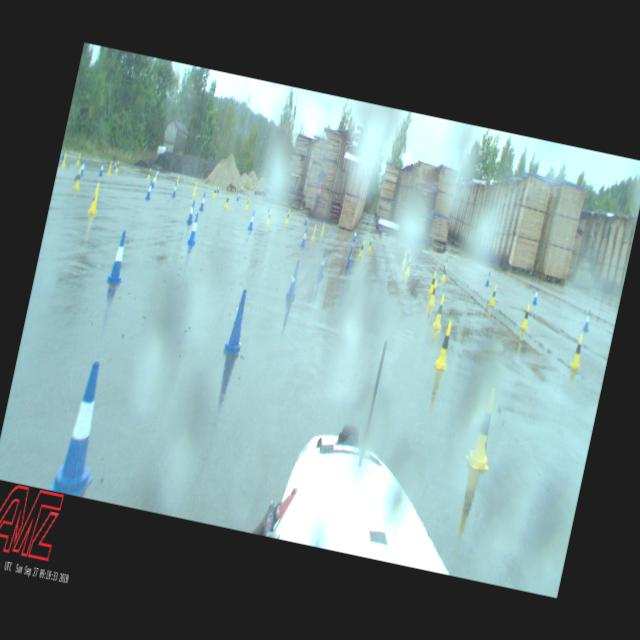blue_cone: (47, 358, 116, 497), (222, 288, 252, 354), (106, 230, 132, 284), (285, 259, 302, 301), (187, 213, 200, 244), (316, 248, 328, 279), (186, 200, 196, 224), (582, 309, 592, 332), (144, 179, 154, 200), (344, 246, 353, 268), (300, 226, 308, 248), (198, 192, 206, 212), (170, 180, 178, 198), (484, 270, 492, 286), (532, 286, 539, 304), (248, 210, 255, 228), (405, 243, 412, 261), (80, 159, 86, 178), (98, 160, 105, 176), (150, 171, 156, 187), (441, 258, 447, 272), (352, 227, 358, 240), (112, 158, 118, 169), (304, 212, 309, 225), (236, 188, 241, 201), (61, 147, 66, 160), (156, 166, 160, 177), (217, 182, 220, 192)
yellow_cone: (463, 386, 504, 470), (432, 320, 457, 370), (569, 334, 586, 368), (432, 294, 446, 329), (88, 182, 102, 214), (427, 280, 439, 306), (520, 303, 532, 327), (488, 284, 498, 306), (72, 167, 82, 189), (428, 270, 436, 293), (358, 238, 366, 258), (440, 264, 448, 282), (404, 256, 412, 274), (366, 236, 374, 252), (310, 223, 317, 240), (401, 248, 408, 265), (223, 192, 230, 208), (61, 152, 68, 166), (266, 208, 272, 224), (244, 196, 250, 211), (75, 152, 81, 166), (106, 160, 112, 174), (320, 222, 326, 236), (284, 210, 290, 223), (192, 182, 198, 195), (114, 160, 120, 173), (153, 170, 158, 184), (146, 167, 152, 178), (175, 172, 180, 185), (212, 185, 217, 197), (190, 178, 194, 188)
